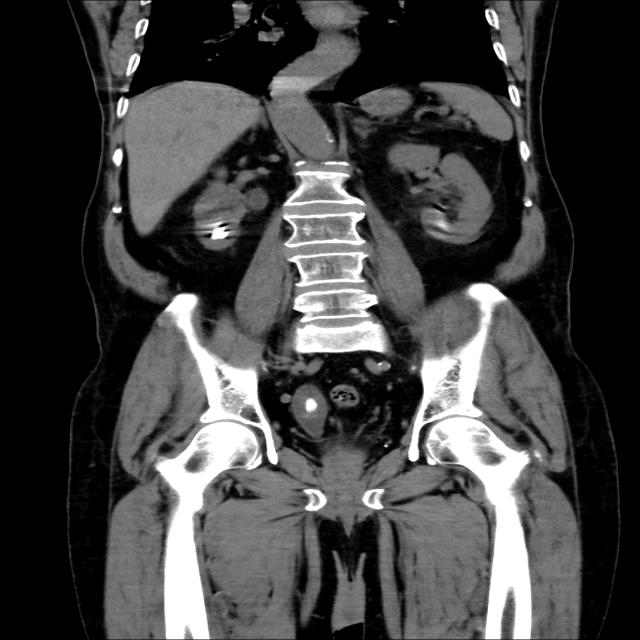kidneystone: (210, 226, 229, 240)
